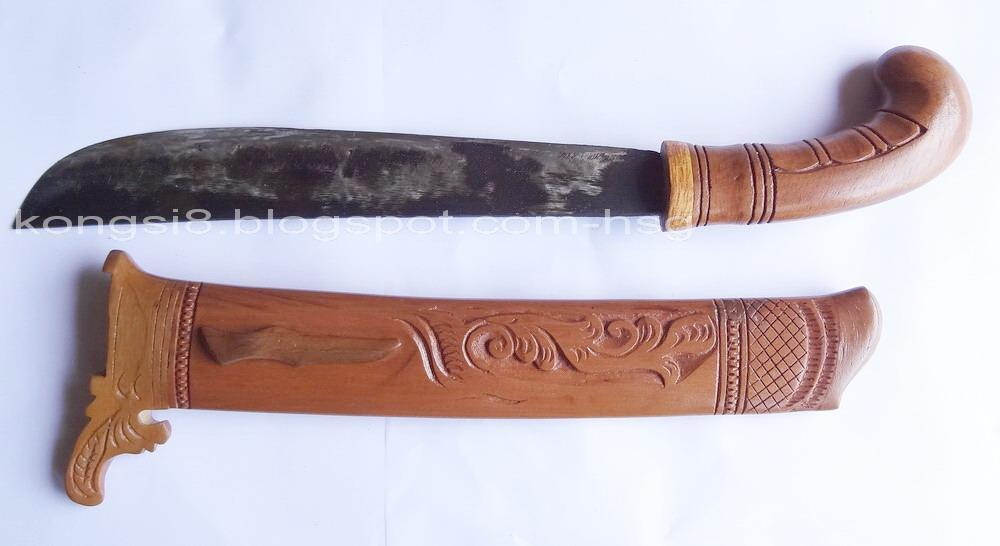espada: (0, 105, 922, 235)
